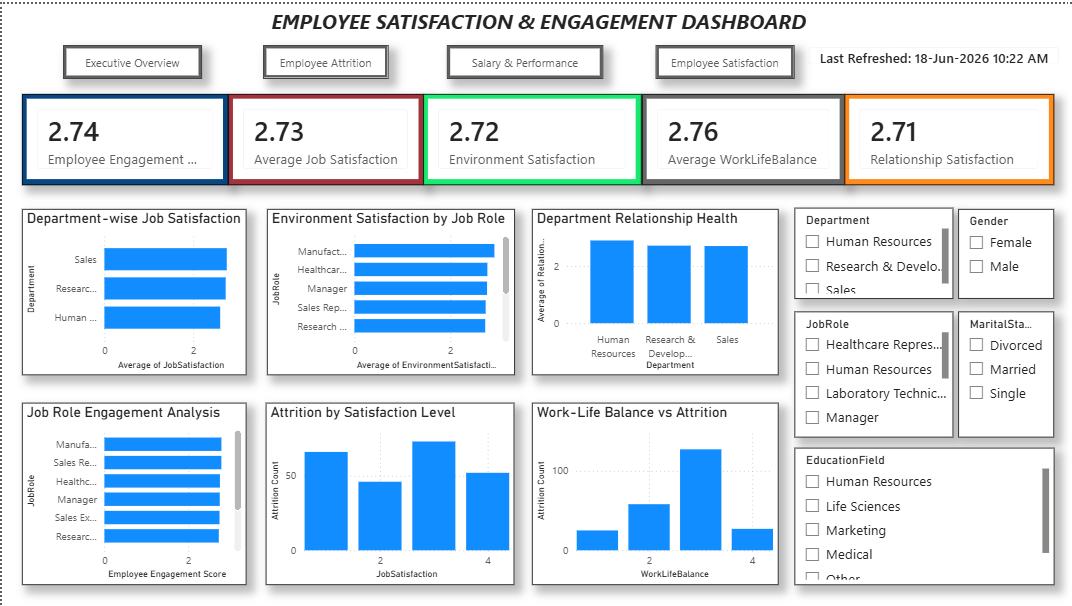

This screenshot's page, from the dashboard's own definition file:
{"tool":"powerbi","page":{"name":"EMPLOYEE SATISFACTION & ENGAGEMENT","canvas":[1280,720],"ordinal":3},"visuals":[{"type":"textbox","box":[315.9,0,649.3,44.9],"z":0},{"type":"cardVisual","fields":{"Data":["Measures Table.Employee Engagement Score"]},"box":[23.2,107.2,246.4,108.7],"z":1000},{"type":"cardVisual","fields":{"Data":["Measures Table.Average Job Satisfaction"]},"box":[269.6,107.2,233.3,108.7],"z":2000},{"type":"cardVisual","fields":{"Data":["Avg(Attrition_Satisfaction.EnvironmentSatisfaction)"]},"box":[502.9,107.2,260.9,108.7],"z":3000},{"type":"cardVisual","fields":{"Data":["Avg(Attrition_Satisfaction.WorkLifeBalance)"]},"box":[763.8,107.2,242,108.7],"z":4000},{"type":"cardVisual","fields":{"Data":["Avg(Attrition_Satisfaction.RelationshipSatisfaction)"]},"box":[1005.8,107.2,250.7,108.7],"z":5000},{"type":"clusteredBarChart","title":"Department-wise Job Satisfaction","fields":{"Category":["Employee_Details.Department"],"Y":["Avg(Attrition_Satisfaction.JobSatisfaction)"]},"box":[23.2,244.9,268.1,198.6],"z":6000},{"type":"clusteredColumnChart","title":"Department Relationship Health","fields":{"Category":["Employee_Details.Department"],"Y":["Avg(Attrition_Satisfaction.RelationshipSatisfaction)"]},"box":[633.3,244.9,294.2,198.6],"z":7000},{"type":"clusteredBarChart","title":"Environment Satisfaction by Job Role","fields":{"Category":["Employee_Details.JobRole"],"Y":["Avg(Attrition_Satisfaction.EnvironmentSatisfaction)"]},"box":[315.9,244.9,295.7,198.6],"z":8000},{"type":"clusteredBarChart","title":"Job Role Engagement Analysis","fields":{"Category":["Employee_Details.JobRole"],"Y":["Measures Table.Employee Engagement Score"]},"box":[23.2,476.8,268.1,217.4],"z":9000},{"type":"clusteredColumnChart","title":"Attrition by Satisfaction Level","fields":{"Category":["Attrition_Satisfaction.JobSatisfaction"],"Y":["Measures Table.Attrition Count"]},"box":[314.5,476.8,297.1,217.4],"z":10000},{"type":"clusteredColumnChart","title":"Work-Life Balance vs Attrition","fields":{"Category":["Attrition_Satisfaction.WorkLifeBalance"],"Y":["Measures Table.Attrition Count"]},"box":[633.3,476.8,294.2,217.4],"z":11000},{"type":"slicer","fields":{"Values":["Employee_Details.Department"]},"box":[946.4,243.5,189.9,108.7],"z":12000},{"type":"slicer","fields":{"Values":["Employee_Details.JobRole"]},"box":[946.4,366.7,189.9,150.7],"z":13000},{"type":"slicer","fields":{"Values":["Employee_Details.Gender"]},"box":[1142,244.9,114.5,107.2],"z":14000},{"type":"slicer","fields":{"Values":["Employee_Details.MaritalStatus"]},"box":[1142,366.7,114.5,150.7],"z":15000},{"type":"slicer","fields":{"Values":["Employee_Details.EducationField"]},"box":[946.4,530.4,310.1,163.8],"z":16000},{"type":"cardVisual","fields":{"Data":["Measures Table.Last Refresh"]},"box":[946.4,34.8,333.3,55.1],"z":17000},{"type":"actionButton","box":[73.1,49.3,165.7,40.3],"z":18000},{"type":"actionButton","box":[311.5,49.4,149.6,39.8],"z":19000},{"type":"actionButton","box":[531.3,49.3,186.6,40.3],"z":20000},{"type":"actionButton","box":[780.6,49.3,165.7,40.3],"z":20001}]}

Visuals, with their boxes in screenshot pixels (x1, y1, x2, y2), scaled from the page's 1280x720 canvas onto the 1072x606 screenshot:
textbox: (x1=265, y1=0, x2=808, y2=38)
cardVisual - Measures Table.Employee Engagement Score: (x1=19, y1=90, x2=226, y2=182)
cardVisual - Measures Table.Average Job Satisfaction: (x1=226, y1=90, x2=421, y2=182)
cardVisual - Avg(Attrition_Satisfaction.EnvironmentSatisfaction): (x1=421, y1=90, x2=640, y2=182)
cardVisual - Avg(Attrition_Satisfaction.WorkLifeBalance): (x1=640, y1=90, x2=842, y2=182)
cardVisual - Avg(Attrition_Satisfaction.RelationshipSatisfaction): (x1=842, y1=90, x2=1052, y2=182)
"Department-wise Job Satisfaction" clusteredBarChart: (x1=19, y1=206, x2=244, y2=373)
"Department Relationship Health" clusteredColumnChart: (x1=530, y1=206, x2=777, y2=373)
"Environment Satisfaction by Job Role" clusteredBarChart: (x1=265, y1=206, x2=512, y2=373)
"Job Role Engagement Analysis" clusteredBarChart: (x1=19, y1=401, x2=244, y2=584)
"Attrition by Satisfaction Level" clusteredColumnChart: (x1=263, y1=401, x2=512, y2=584)
"Work-Life Balance vs Attrition" clusteredColumnChart: (x1=530, y1=401, x2=777, y2=584)
slicer - Employee_Details.Department: (x1=793, y1=205, x2=952, y2=296)
slicer - Employee_Details.JobRole: (x1=793, y1=309, x2=952, y2=435)
slicer - Employee_Details.Gender: (x1=956, y1=206, x2=1052, y2=296)
slicer - Employee_Details.MaritalStatus: (x1=956, y1=309, x2=1052, y2=435)
slicer - Employee_Details.EducationField: (x1=793, y1=446, x2=1052, y2=584)
cardVisual - Measures Table.Last Refresh: (x1=793, y1=29, x2=1071, y2=76)
actionButton: (x1=61, y1=41, x2=200, y2=75)
actionButton: (x1=261, y1=42, x2=386, y2=75)
actionButton: (x1=445, y1=41, x2=601, y2=75)
actionButton: (x1=654, y1=41, x2=793, y2=75)
